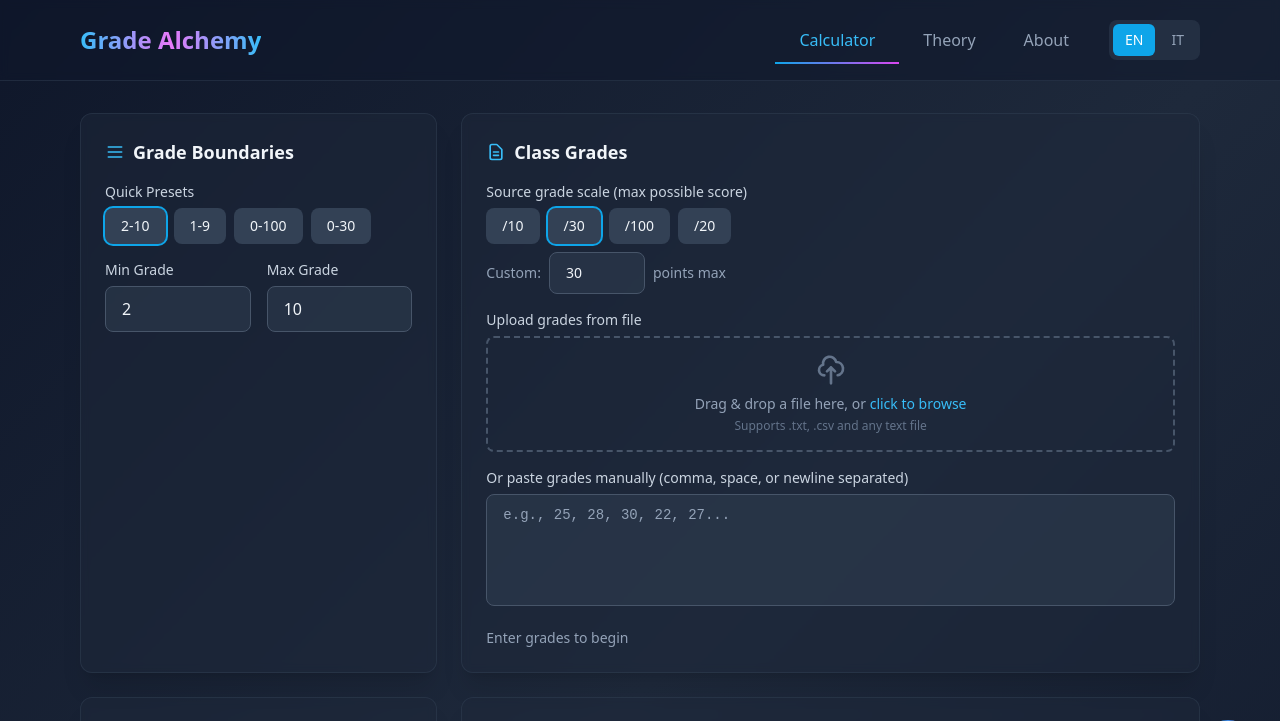
Test: App › switches to about tab when clicked
This screenshot has width=1280, height=721.
Click the button "About".
click(1046, 40)  # box [1000,16,1093,64]
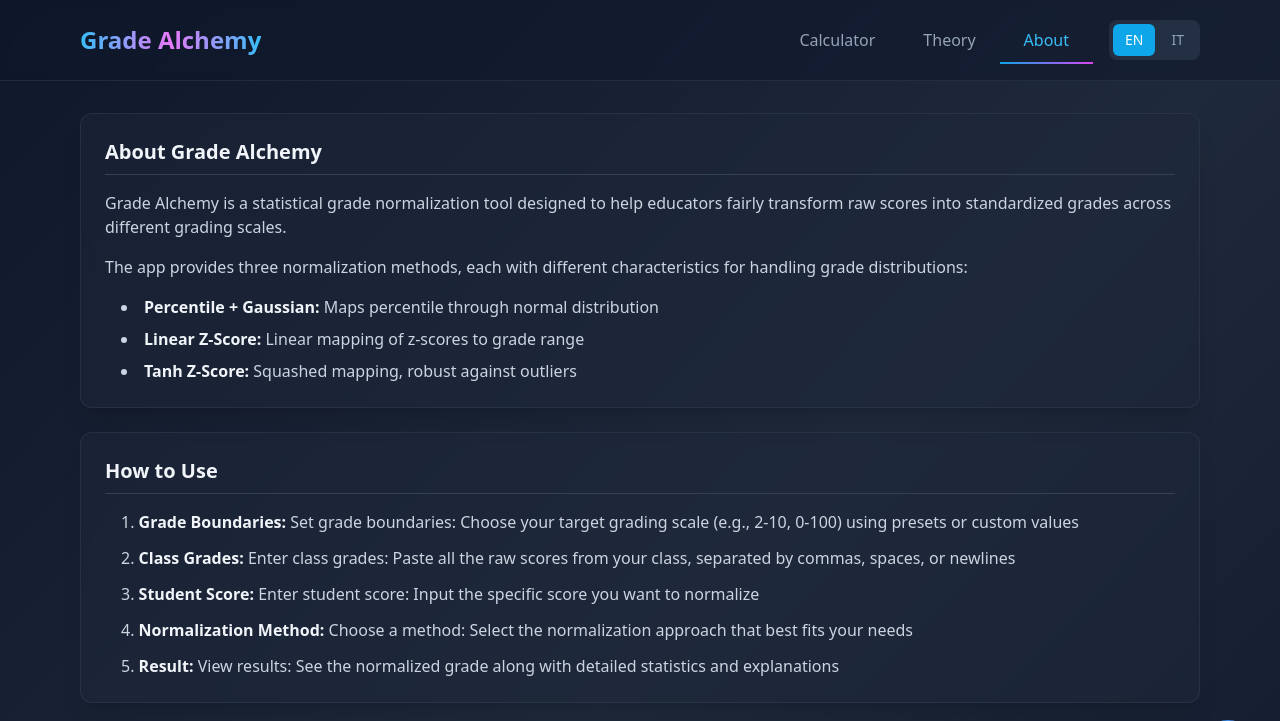
expect the heading "About Grade Alchemy" is shown: met, box [105,138,1175,175]
